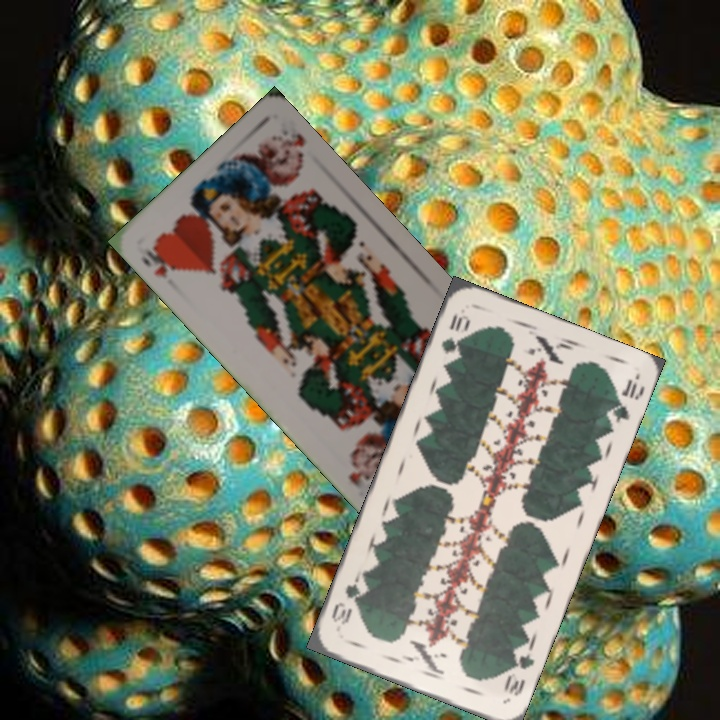G10: (499, 649, 537, 699), (437, 309, 472, 357)
HO: (137, 242, 181, 281)
